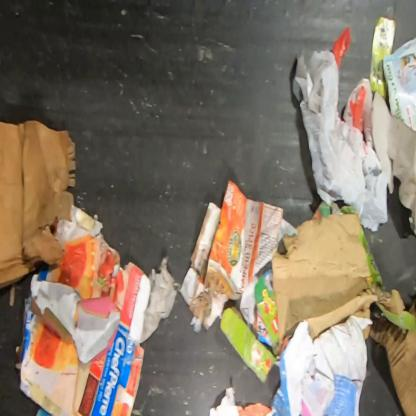cardboard: (14, 204, 153, 415), (264, 212, 379, 357), (178, 178, 284, 332), (0, 120, 77, 290), (263, 314, 374, 416), (219, 268, 281, 384), (370, 89, 416, 238), (363, 286, 415, 415)
soft_plastic: (292, 24, 388, 233)
